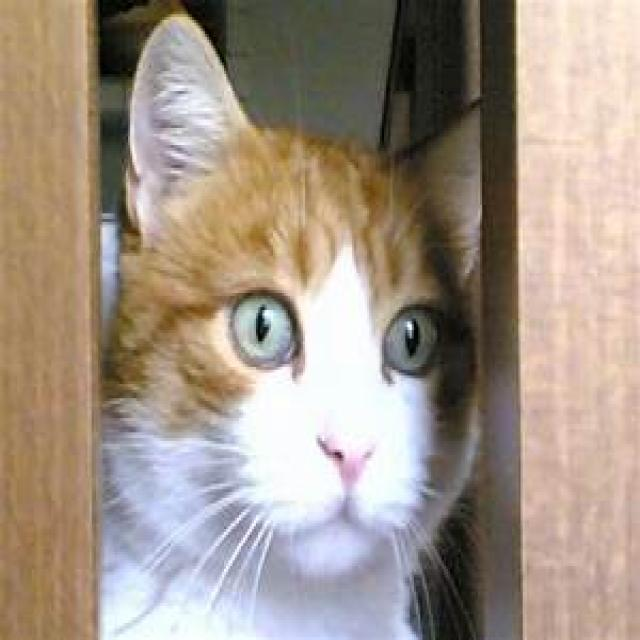animal: (98, 9, 487, 637)
